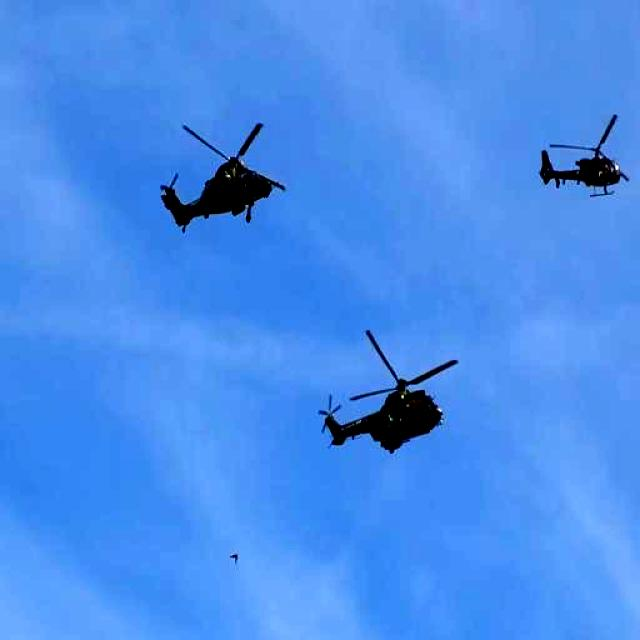drone: (151, 101, 296, 270), (326, 318, 455, 485), (530, 108, 640, 210)
